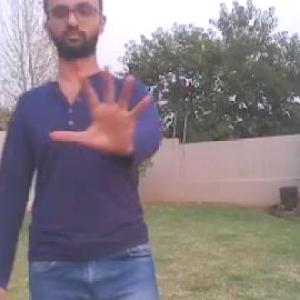follow_hand: (44, 49, 166, 160)
